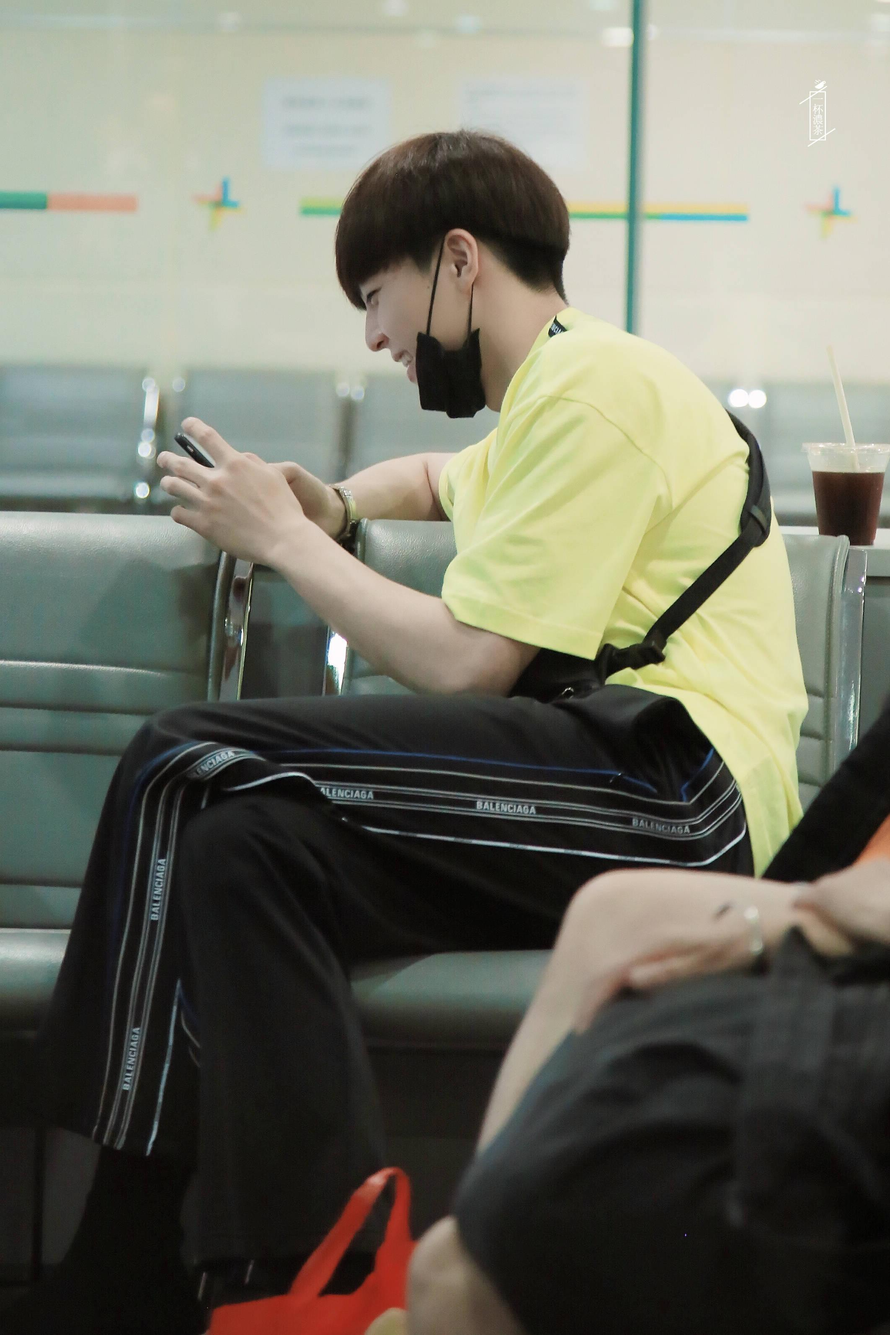WRONG: (355, 269, 472, 416)
